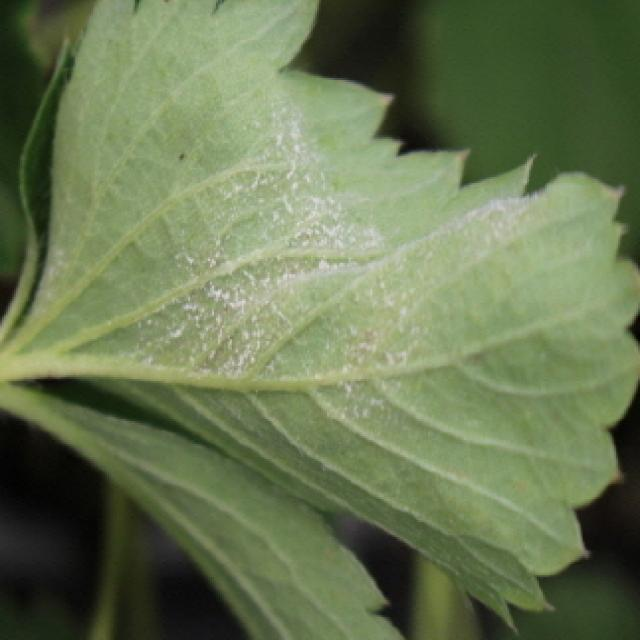Powdery Mildew Leaf: (0, 0, 640, 636)
